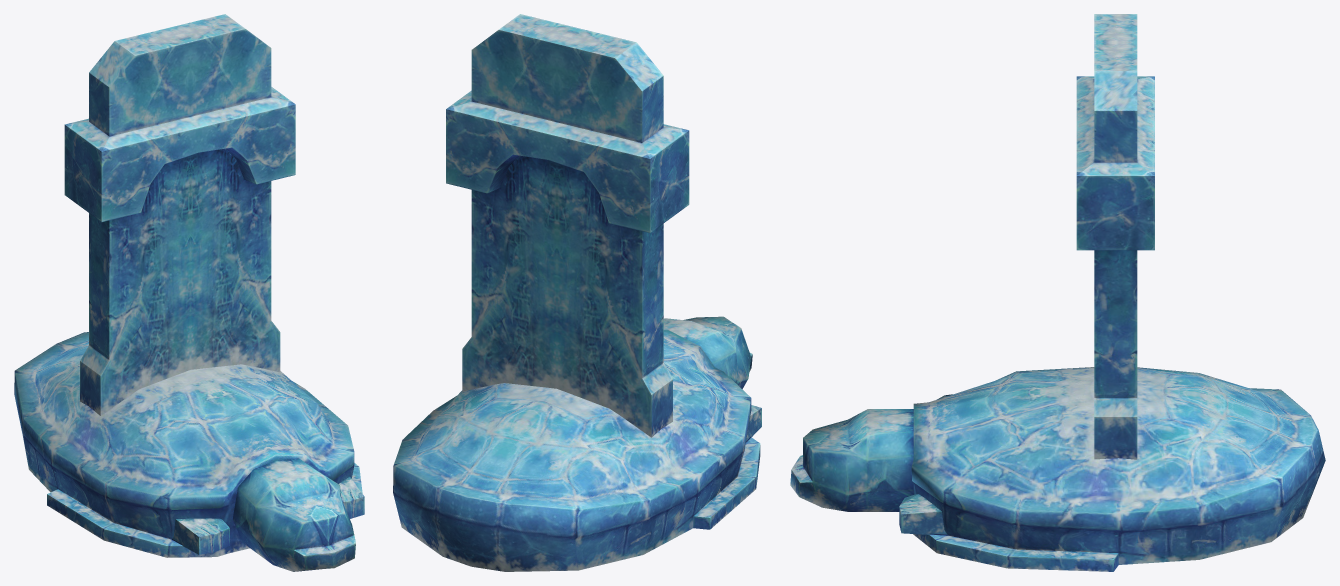
The model's file is Stage_BingYuan_BingDiao01.FBX.
3 renders of one model, left to right at view 1: azimuth 30°, elevation 25°; view 2: azimuth 150°, elevation 25°; view 3: azimuth 270°, elevation 25°, orthographic. The views are drawn at different scales.
Visible parts, largest first — view 1: Stage_BingYuan_BingDiao01; view 2: Stage_BingYuan_BingDiao01; view 3: Stage_BingYuan_BingDiao01.
Boxes of the visible parts, bbox=[...] form: Stage_BingYuan_BingDiao01: bbox=[14, 14, 364, 571]; Stage_BingYuan_BingDiao01: bbox=[393, 14, 761, 571]; Stage_BingYuan_BingDiao01: bbox=[790, 14, 1325, 571].
Size of the model in its own units: 257 by 400 by 421.
